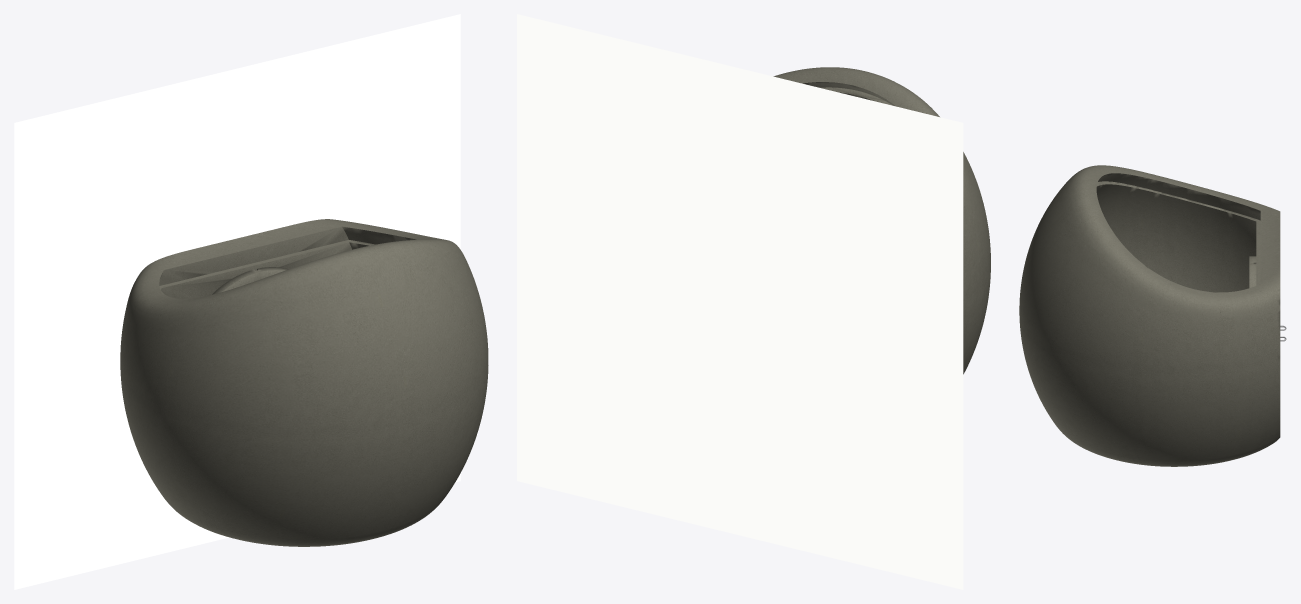
The model's file is opi.glb.
3 renders of one model, left to right at view 1: azimuth 30°, elevation 25°; view 2: azimuth 150°, elevation 25°; view 3: azimuth 270°, elevation 25°, orthographic. The views are drawn at different scales.
Visible parts, largest first — view 1: Holo; view 2: Holo; view 3: Holo.
Boxes of the visible parts, <box> form: Holo: <box>14,14,488,589</box>; Holo: <box>517,14,990,589</box>; Holo: <box>1019,165,1286,466</box>.
Size of the model in its own units: 0.154 by 0.154 by 0.0949.
15 materials, 4 textured.
